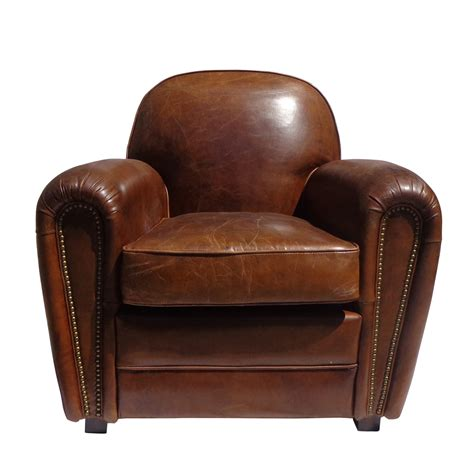cuero: (33, 68, 442, 435)
